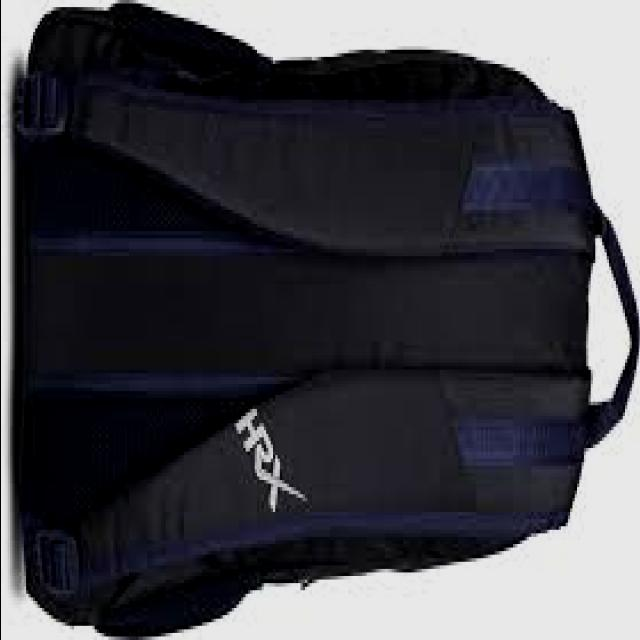backpack: (15, 1, 640, 637)
